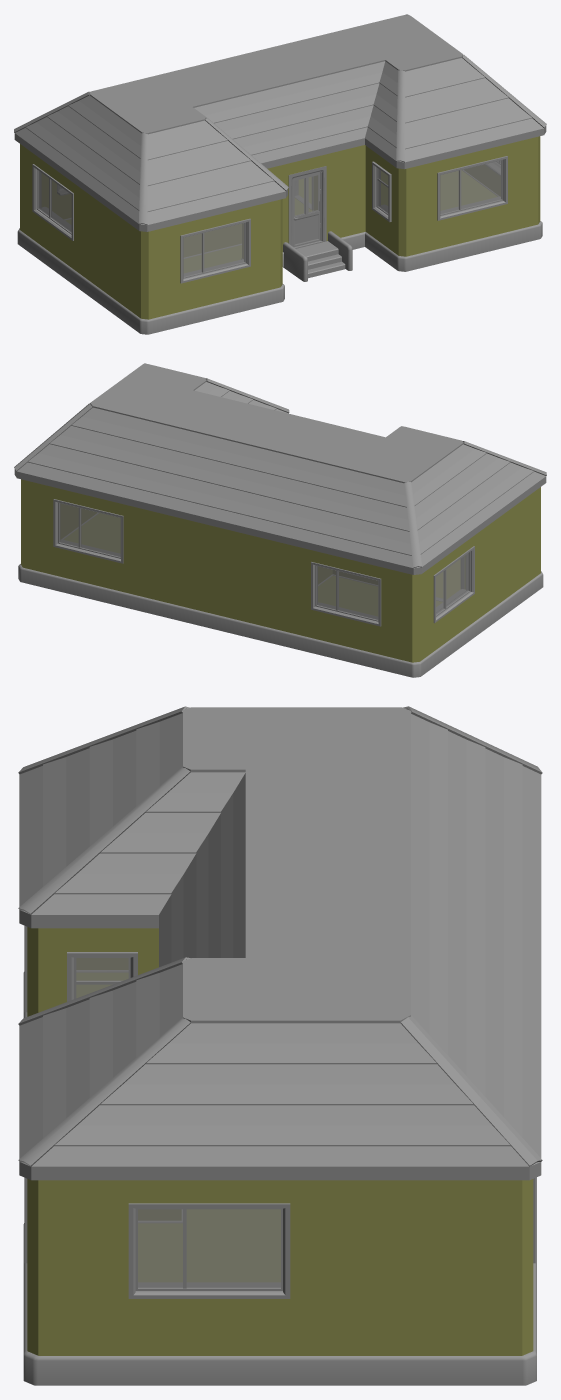
Rendered from House.fbx.
3 renders of one model, top to bottom at view 1: azimuth 30°, elevation 25°; view 2: azimuth 150°, elevation 25°; view 3: azimuth 270°, elevation 25°, orthographic. The views are drawn at different scales.
Parts seen in each view (by area): view 1: roof, house, glass, door, glass_door; view 2: roof, house, glass; view 3: roof, house, glass.
Part boxes in pixels (box(x1,y1,x2,y2)): roof: box(14, 14, 546, 334); house: box(20, 136, 540, 319); glass: box(38, 160, 501, 276); door: box(293, 172, 320, 246); glass_door: box(294, 175, 318, 215); roof: box(14, 363, 546, 677); house: box(21, 479, 540, 662); glass: box(59, 503, 469, 619); roof: box(18, 706, 542, 1385); house: box(27, 927, 533, 1355); glass: box(76, 958, 280, 1288).
Size of the model in its own units: 12.09 by 4.67 by 6.73.
